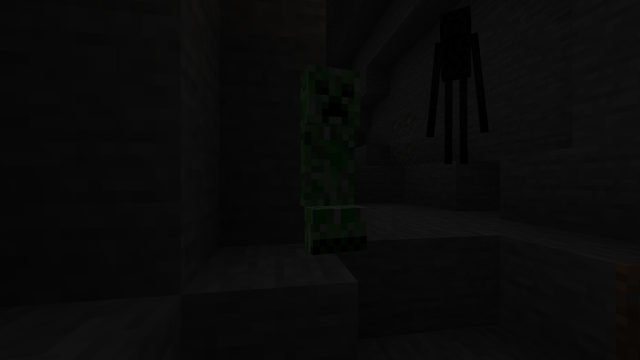creepers: (293, 53, 364, 251)
endermens: (432, 0, 480, 161)
